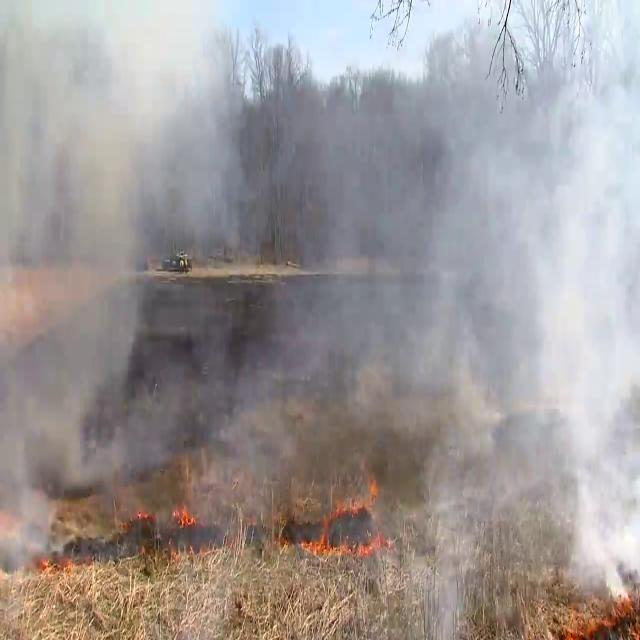smoke: (458, 137, 640, 549), (9, 37, 196, 427)
